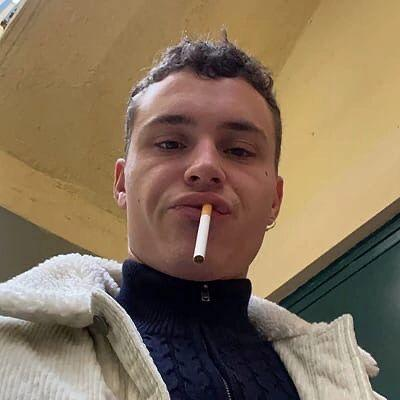cigarette: (193, 202, 213, 265)
